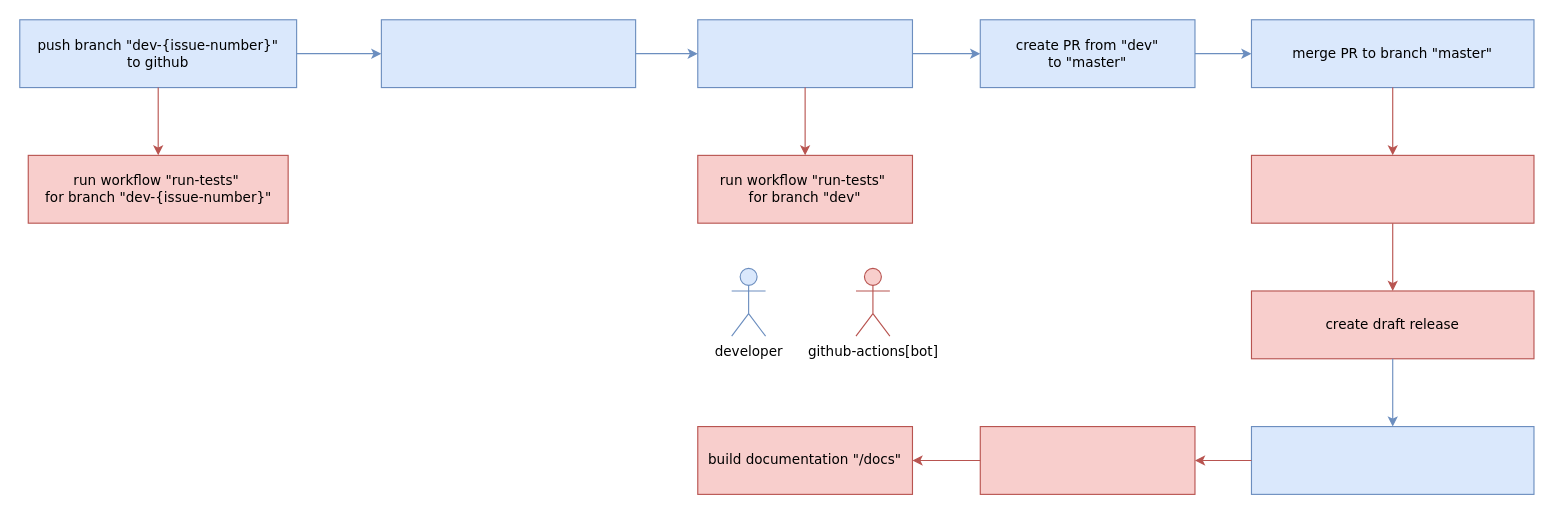
This 1554x514 diagram has some shape labels left out. Each missing label, with the centre of its shape:
create PR from "dev-{issue-number}" to "dev": (508,53)
merge PR to branch "dev": (804,53)
publish release: (1392,459)
run workflow "build-docs" for branch "master": (1087,459)
run workflow "build-draft-release" for branch "master": (1392,188)
